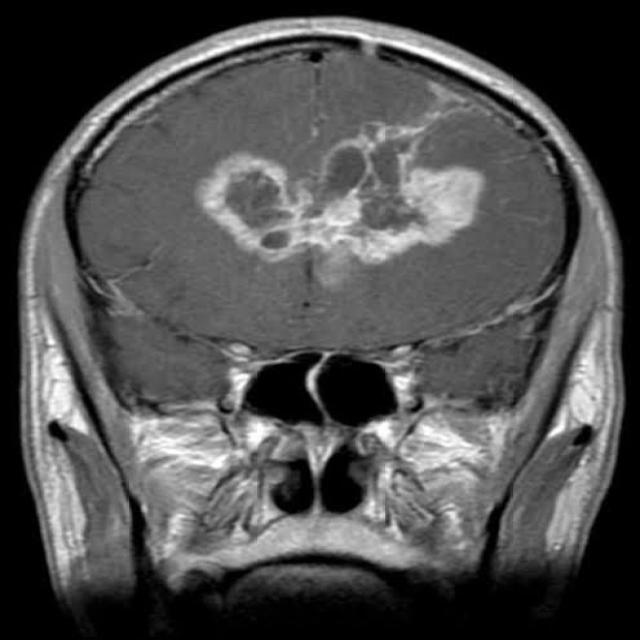glioma: (192, 145, 484, 266)
